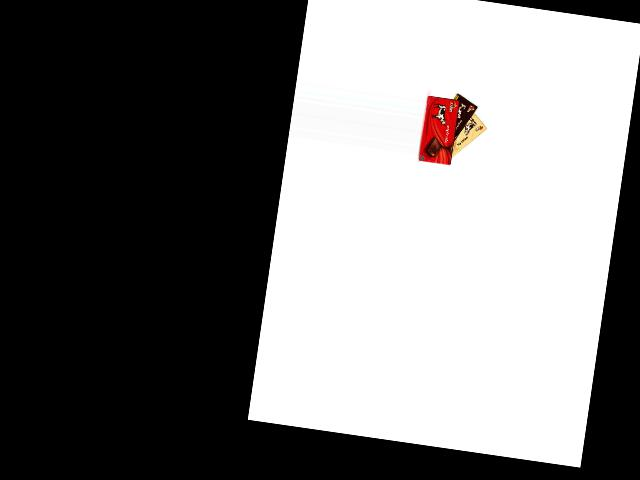chocolate: (444, 102, 490, 167)
